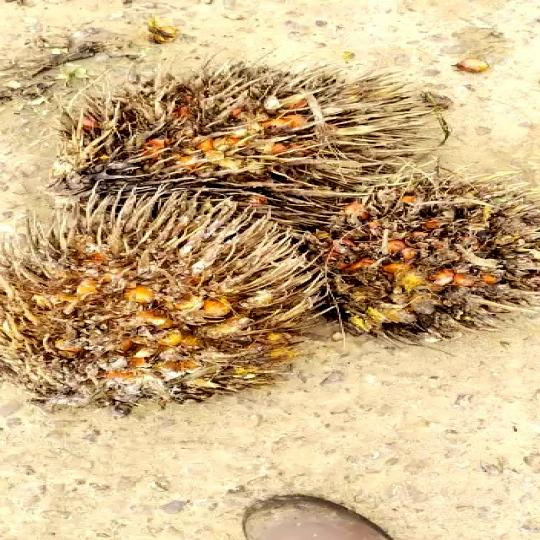terlalu masak: (0, 202, 330, 392), (31, 74, 448, 200), (280, 180, 540, 318)
